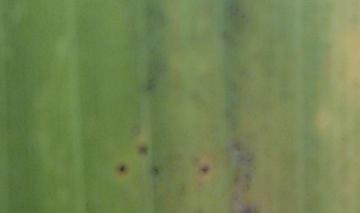tarspot: (136, 143, 148, 156), (198, 163, 209, 176), (117, 163, 127, 174), (150, 165, 160, 175)
